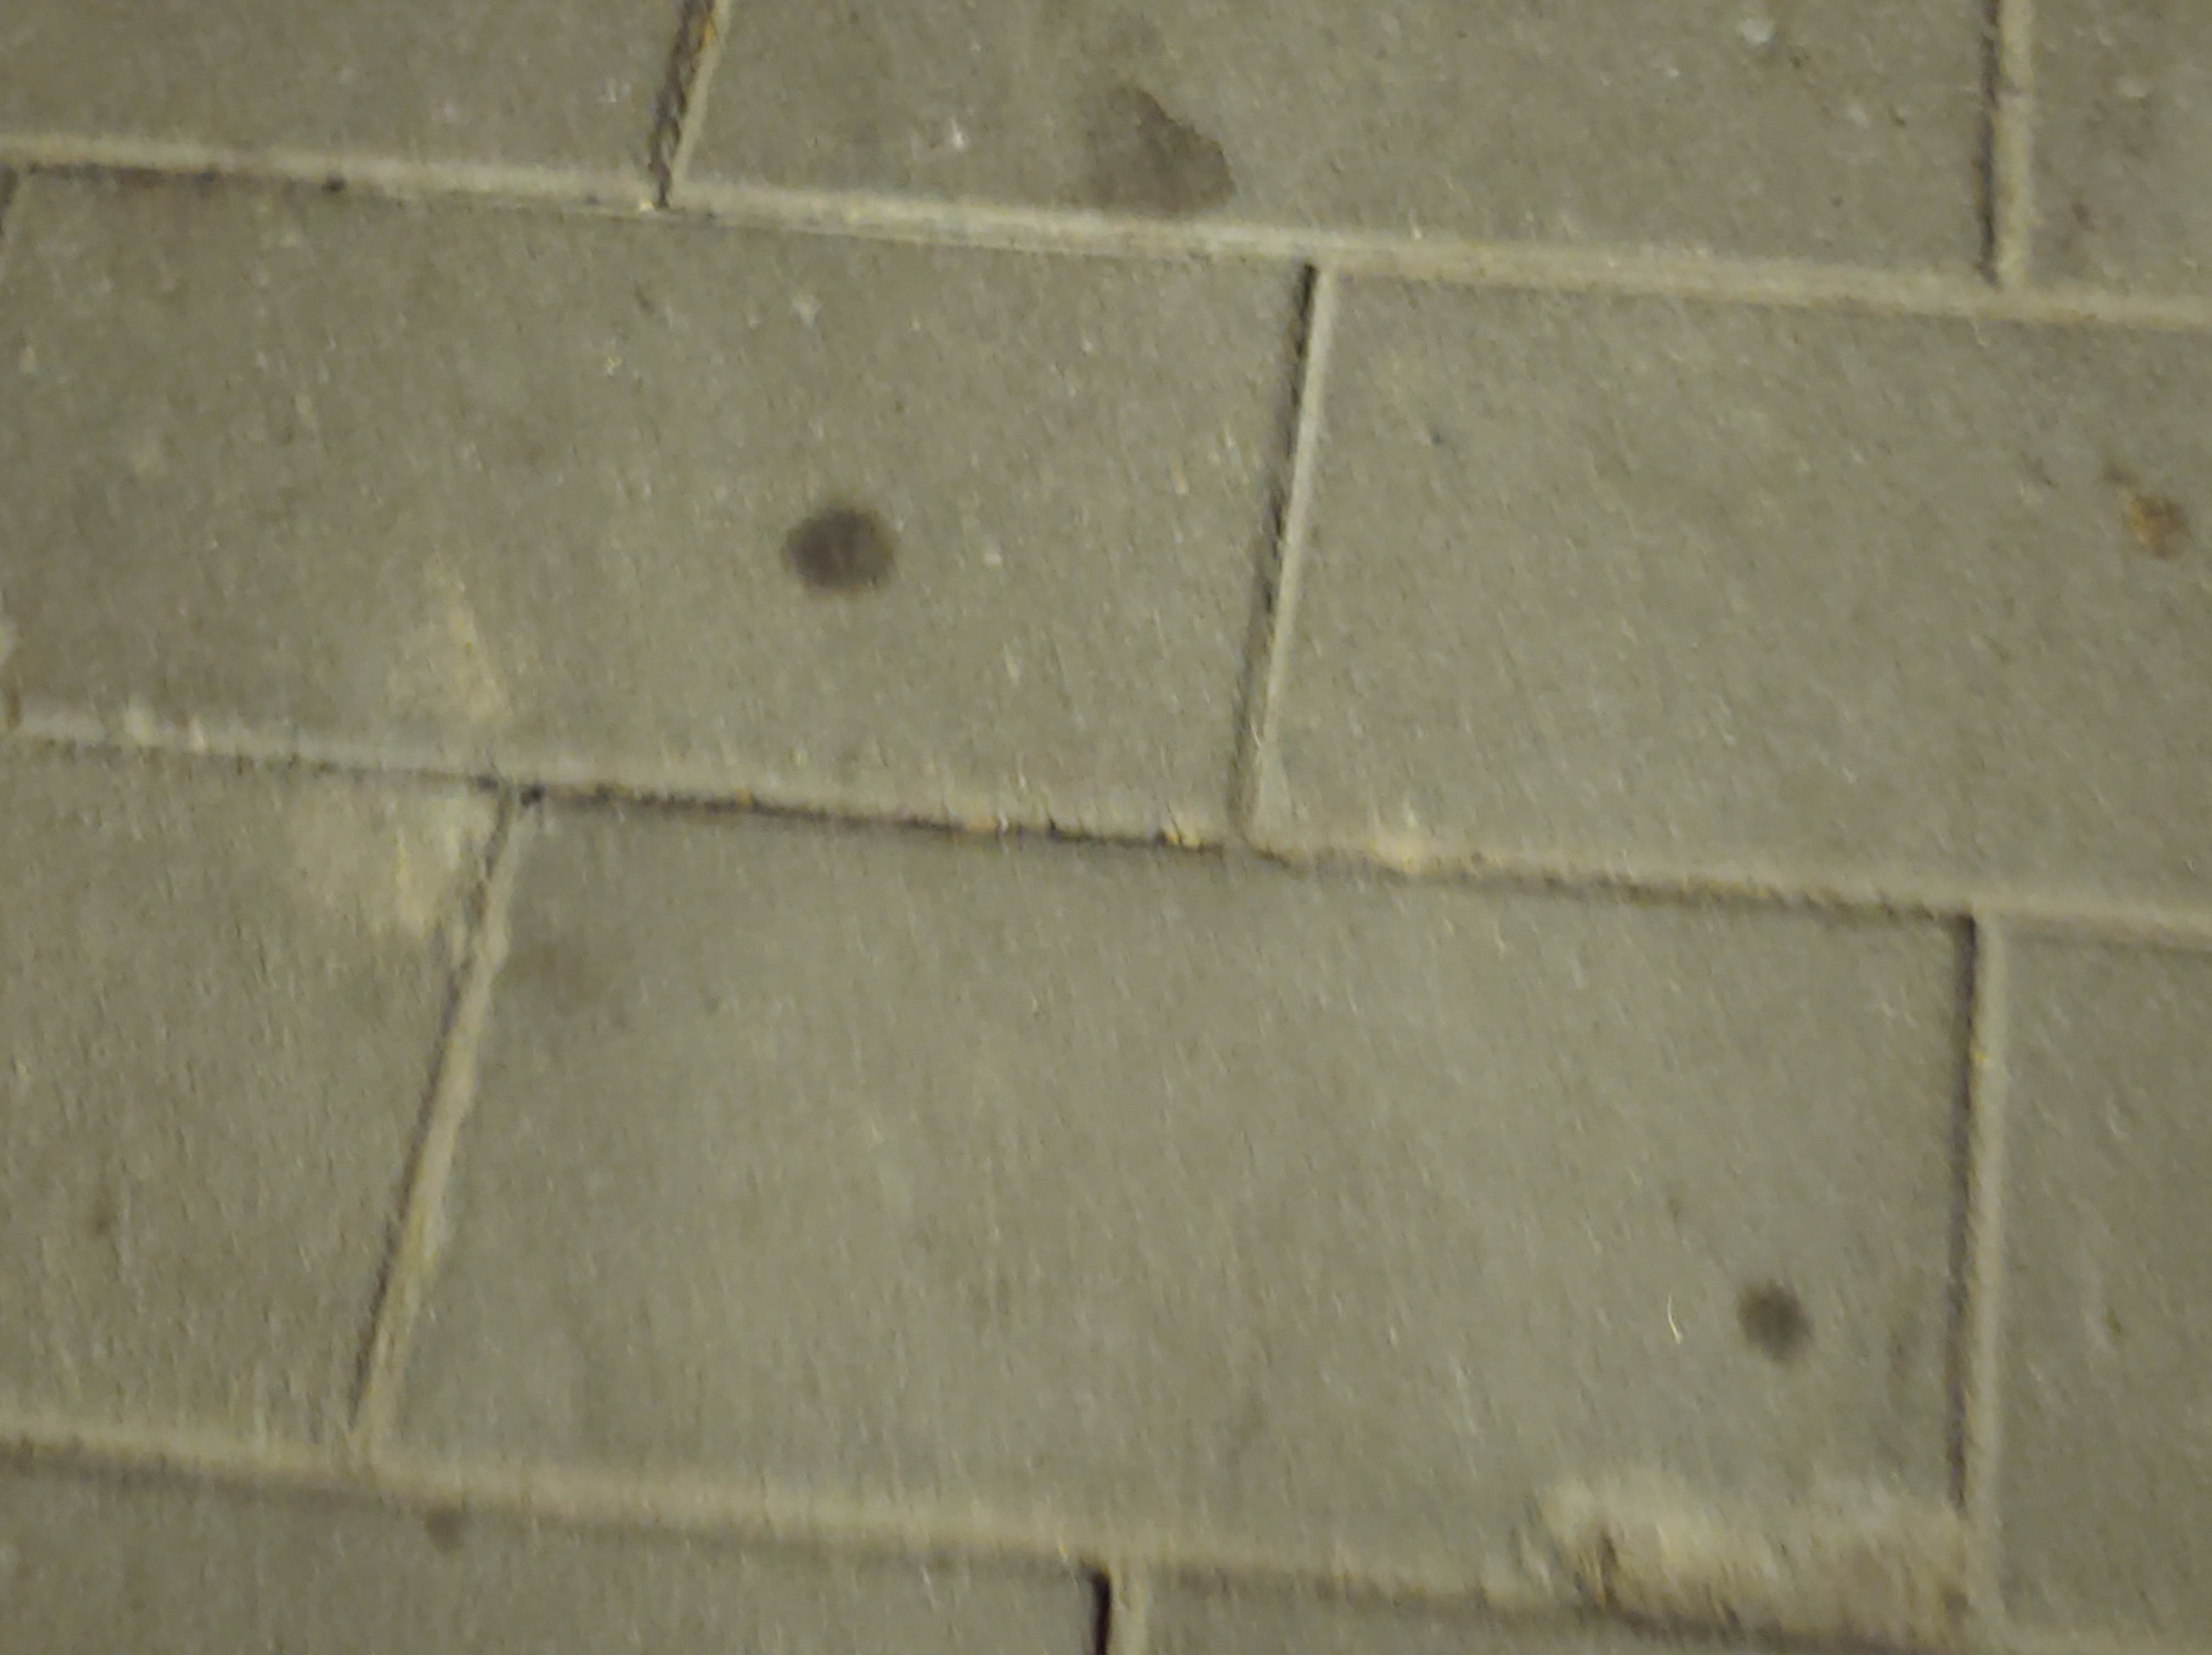grey spot: (780, 506, 897, 593), (1736, 1278, 1816, 1361)
